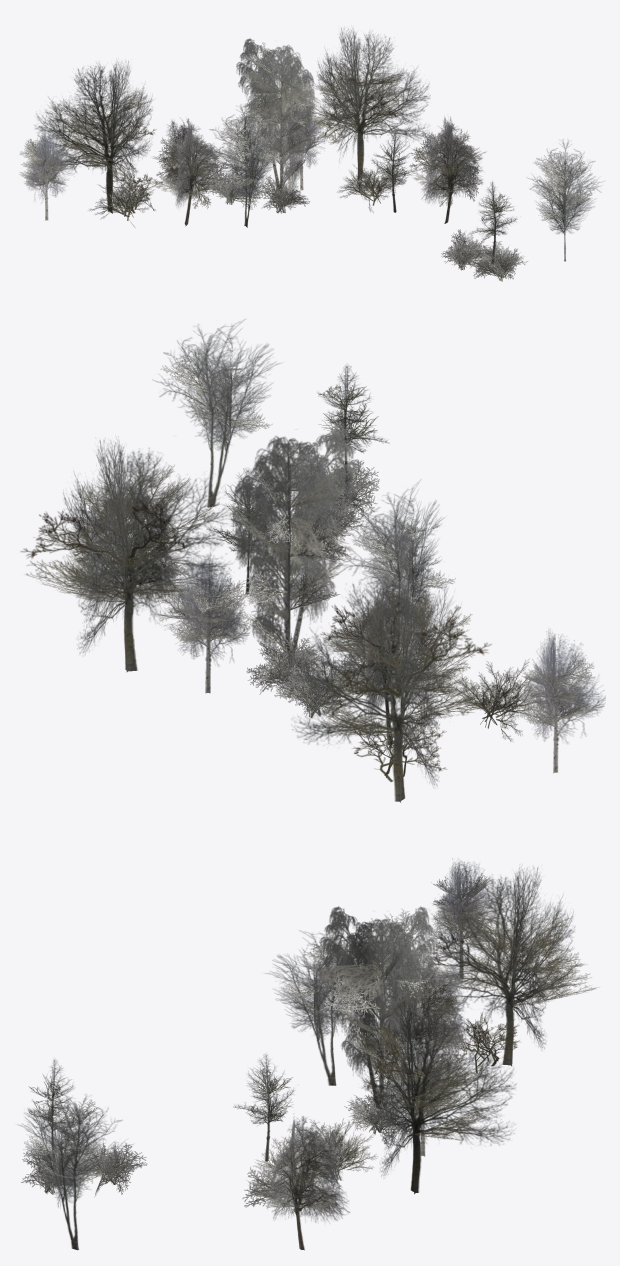
The model's file is wforest.glb.
The picture shows the model from 3 angles, top to bottom: view 1: azimuth 30°, elevation 25°; view 2: azimuth 150°, elevation 25°; view 3: azimuth 270°, elevation 25°; orthographic projection. The views are drawn at different scales.
Parts seen in each view (by area): view 1: Winter_Trees_Planes.002, Winter_Trees_Branches.008; view 2: Winter_Trees_Planes.002, Winter_Trees_Branches.008; view 3: Winter_Trees_Planes.002, Winter_Trees_Branches.008.
Part boxes in pixels (box(x1,y1,x2,y2)): Winter_Trees_Planes.002: box(26, 28, 604, 263); Winter_Trees_Branches.008: box(19, 42, 592, 281); Winter_Trees_Planes.002: box(62, 319, 605, 802); Winter_Trees_Branches.008: box(20, 348, 603, 781); Winter_Trees_Planes.002: box(19, 859, 575, 1250); Winter_Trees_Branches.008: box(21, 873, 596, 1209).
Bounding box in the file's own units: 46.4 × 19.28 × 41.22.
2 materials, 2 textured.
